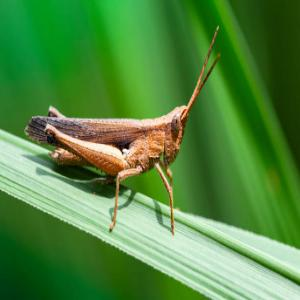locust: (25, 67, 212, 218)
